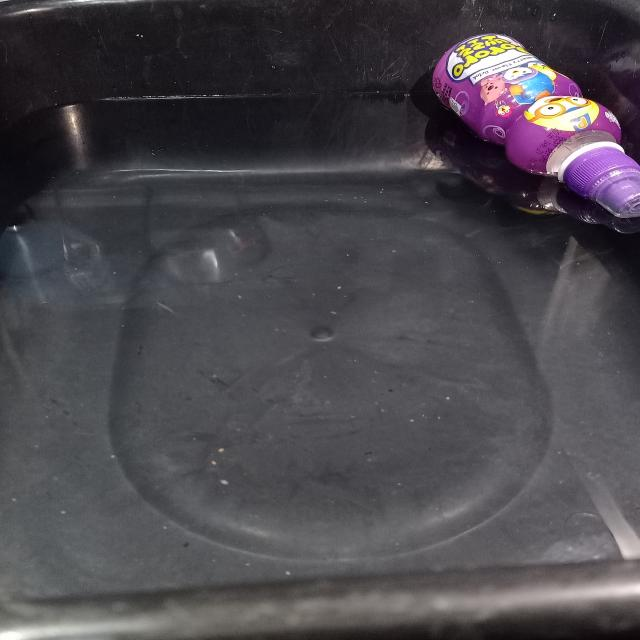Plastic Bottle: (432, 34, 640, 224)
